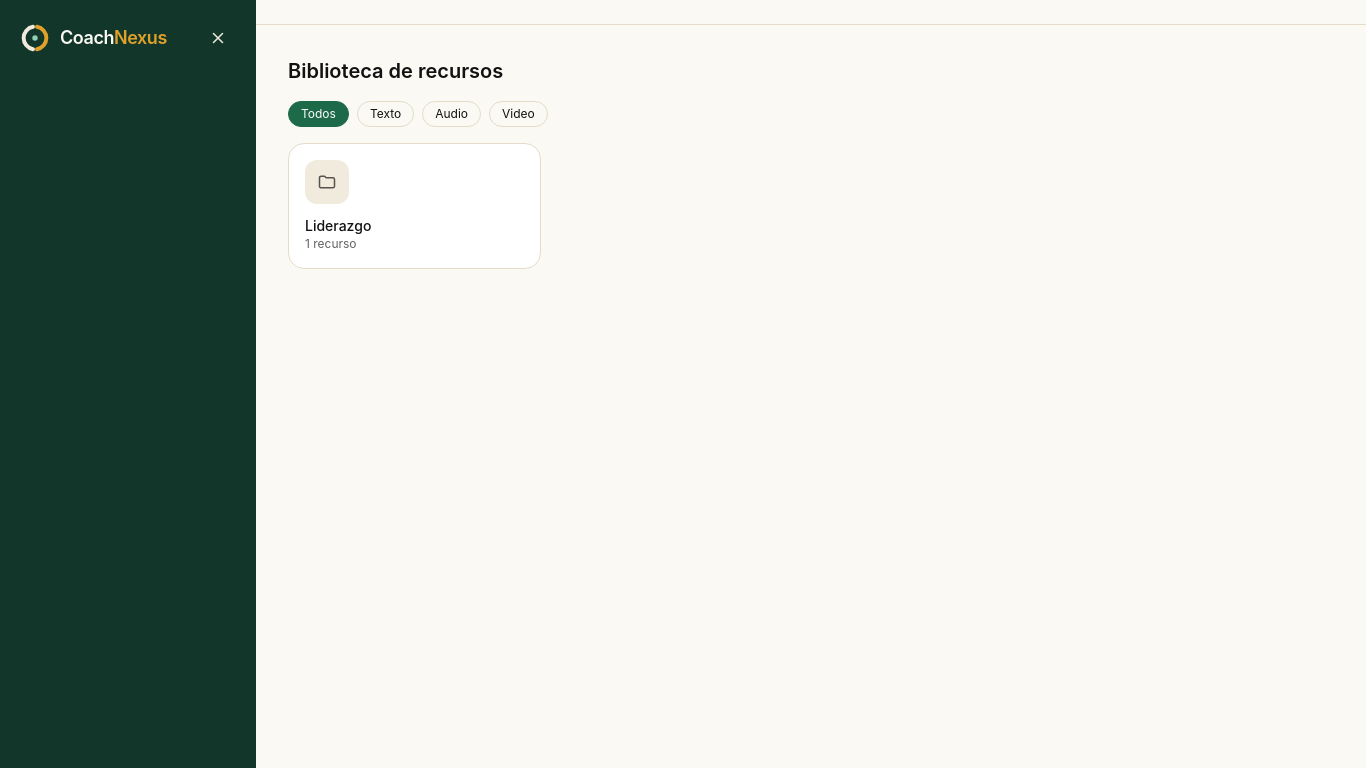
Test: BibliotecaView › saves several aprendizajes of the same capítulo together with its aplicación
Click the button "Liderazgo 1 recurso" at (414, 206), box [288,143,540,269]
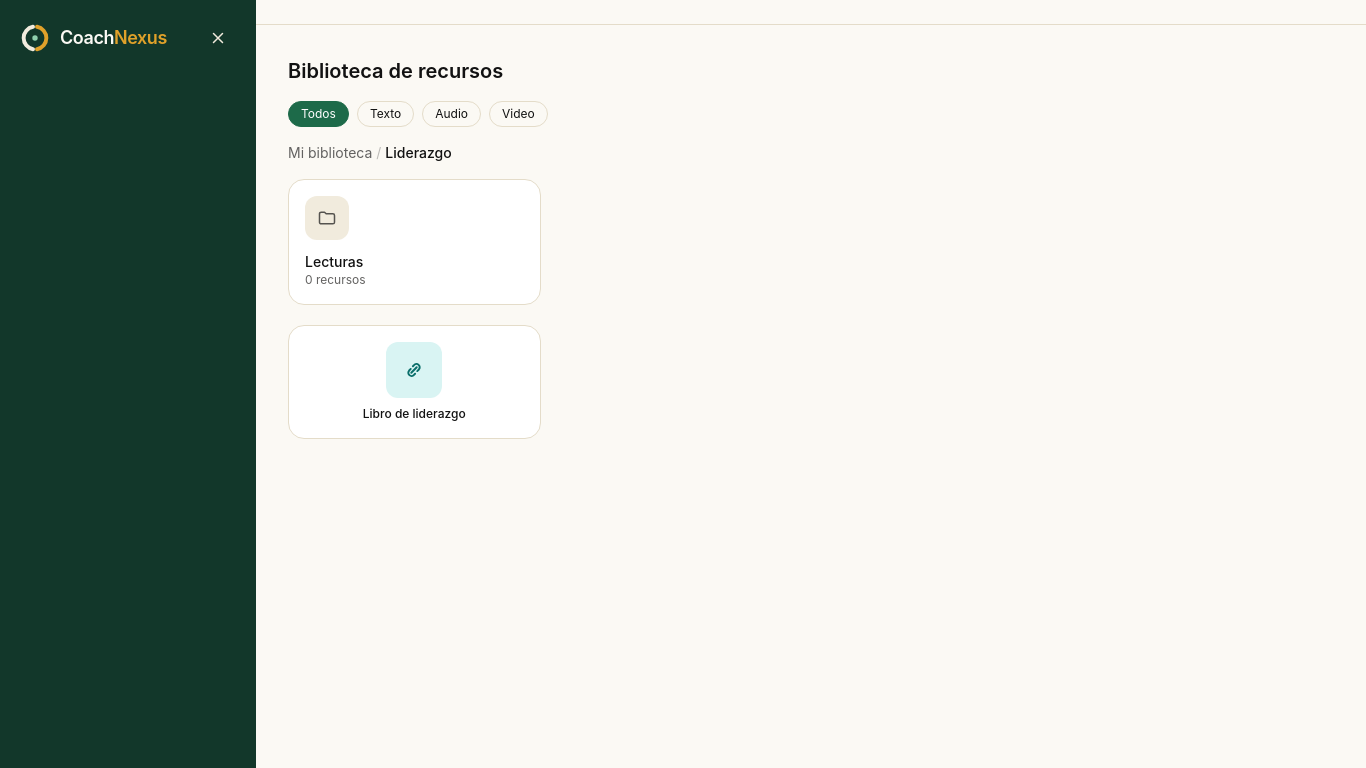
Click the button "Libro de liderazgo" at (414, 382), box [288,325,540,439]
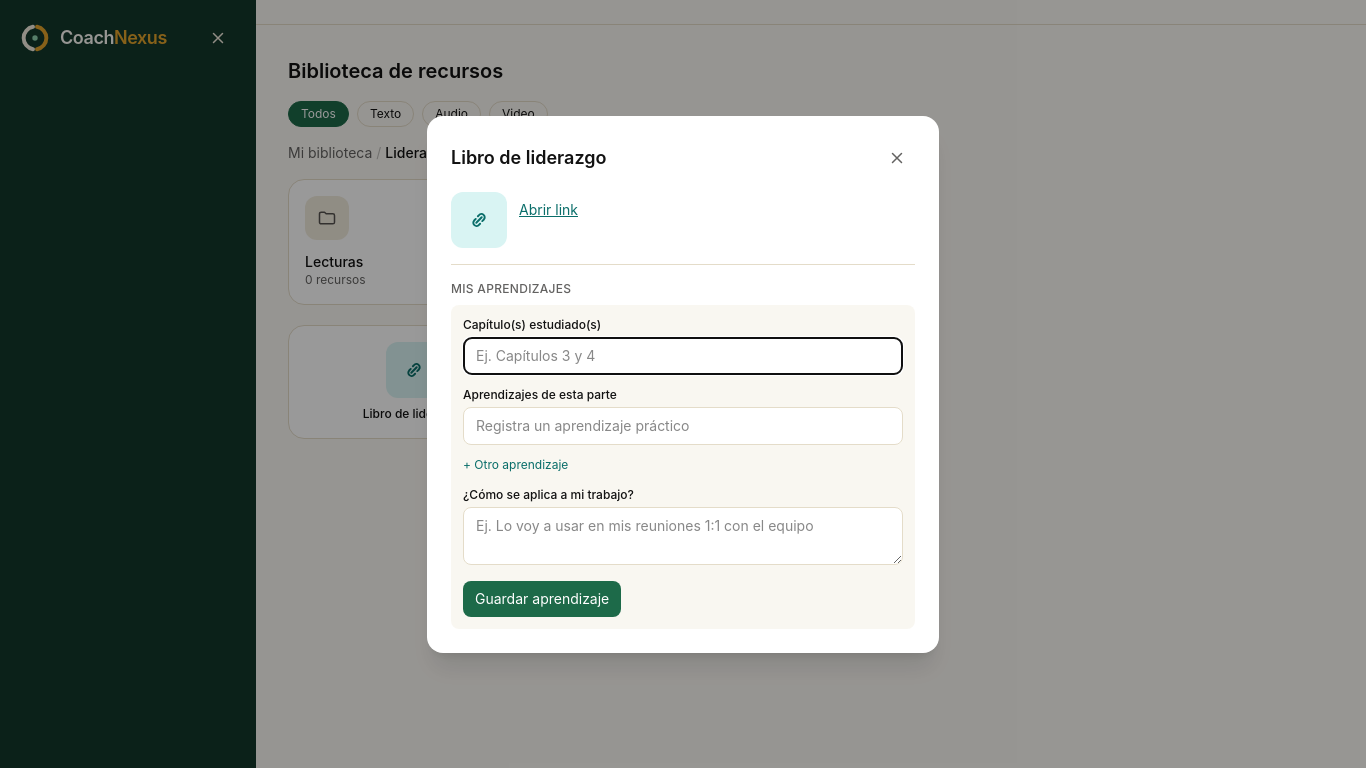
Type "Cap. 3" into the field with placeholder "Ej. Capítulos 3 y 4" at (683, 356), box [463,336,903,374]
Type "Escuchar" into the field named "Aprendizaje 1" at (683, 426), box [463,406,903,444]
Click the button "+ Otro aprendizaje" at (516, 464), box [463,456,568,472]
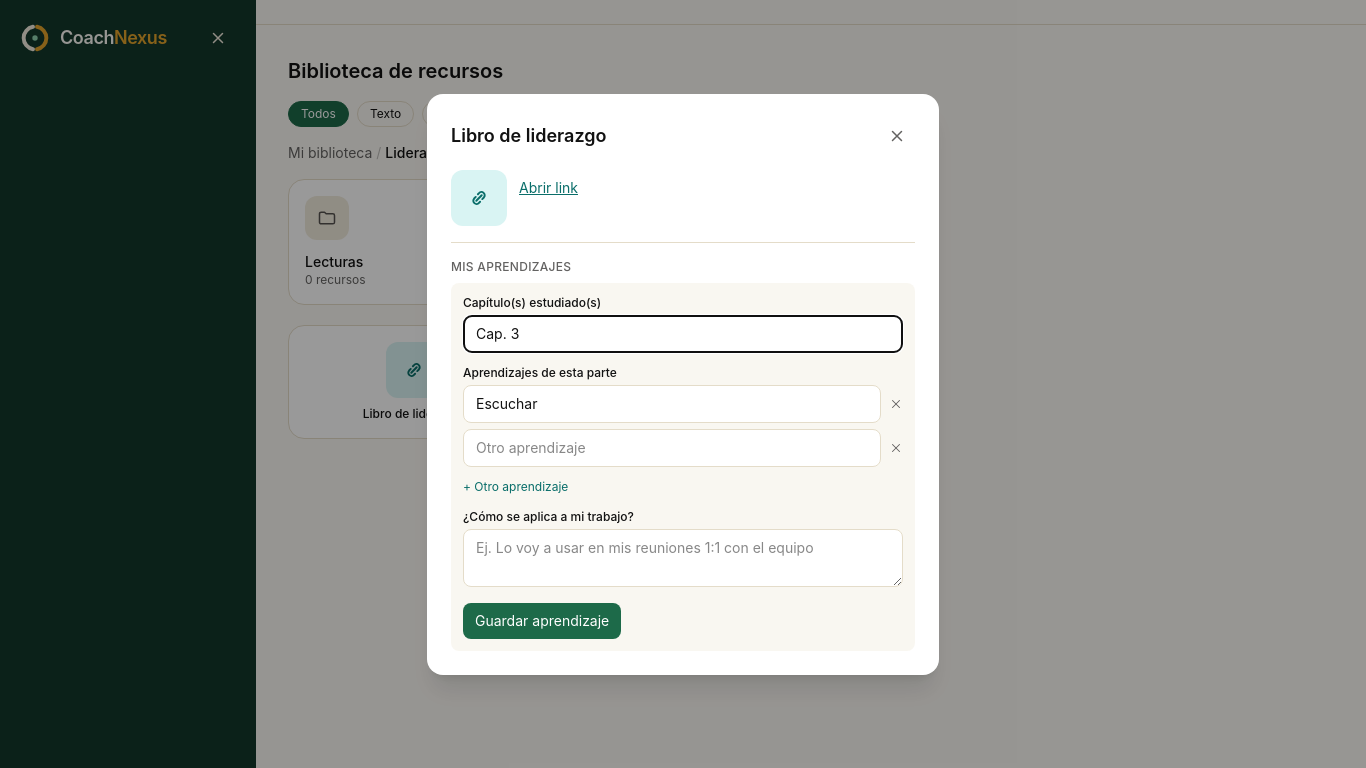
Type "Preguntar" into the field named "Aprendizaje 2" at (672, 448), box [463,428,881,466]
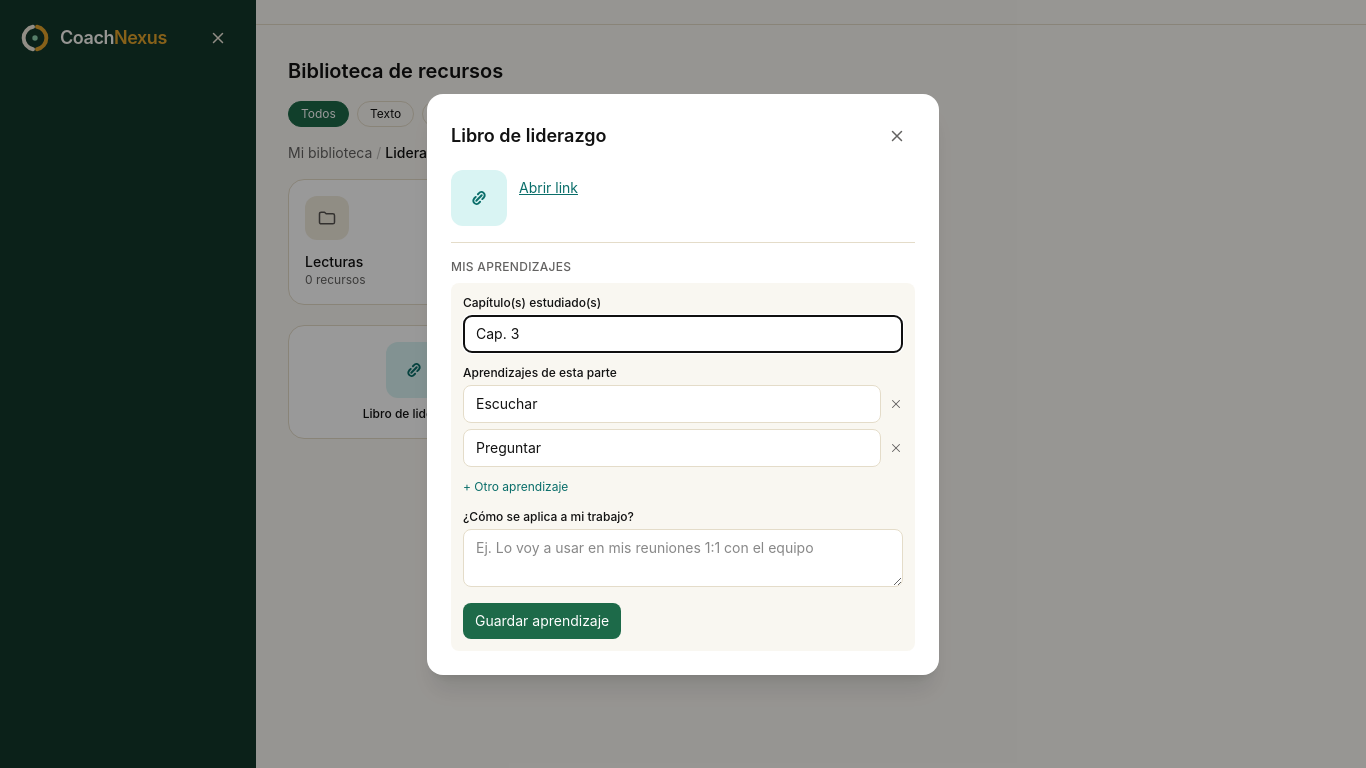
Type "En mis 1:1" into the text box labelled "¿Cómo se aplica a mi trabajo?" at (683, 558), box [463,528,903,586]
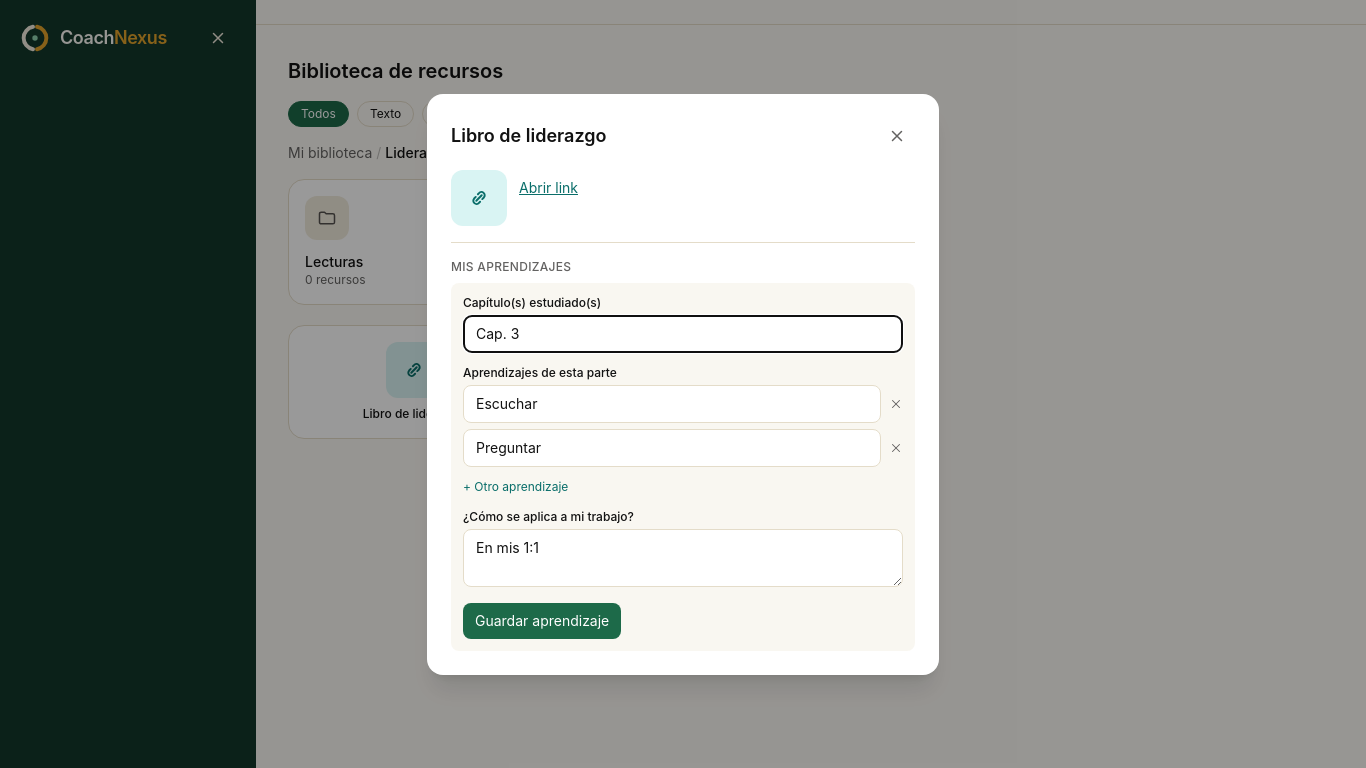
Submit the form, box [451,282,915,650]
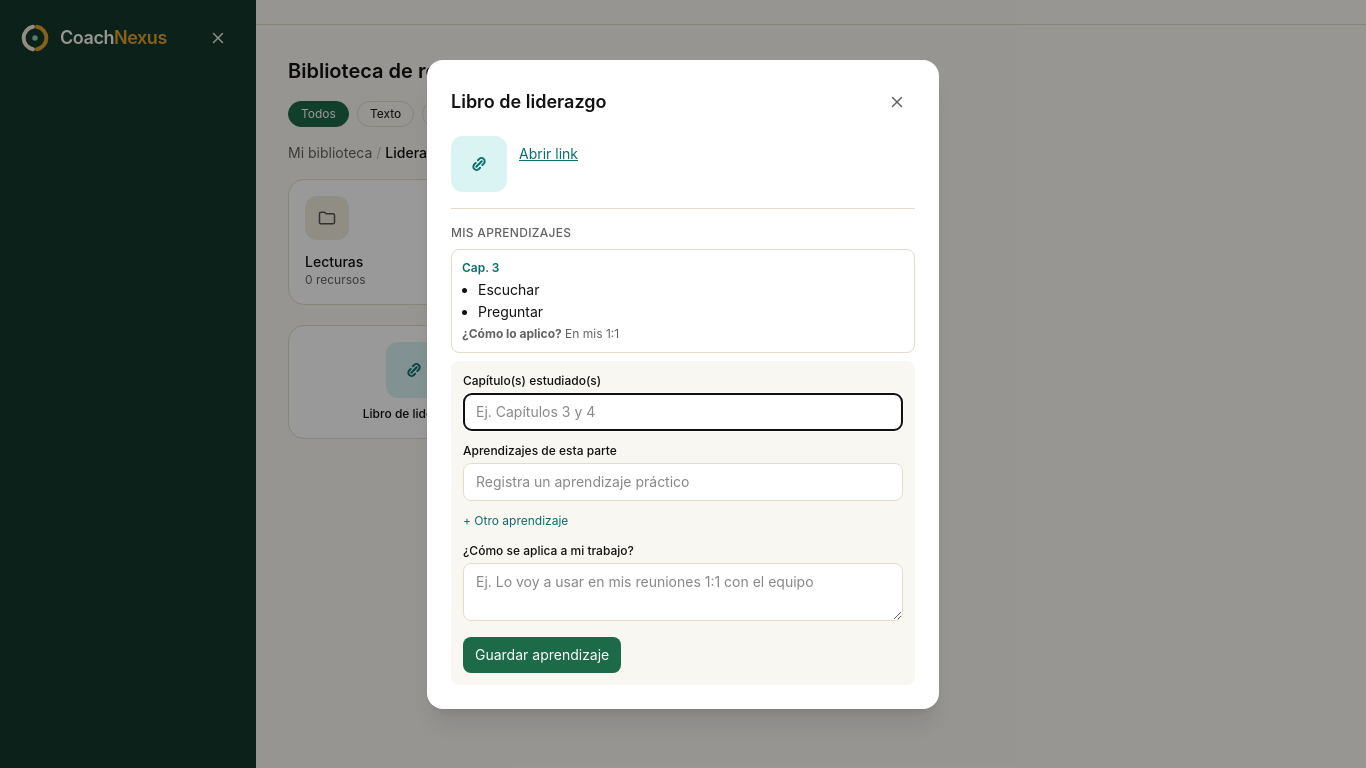
Now the text "Cap. 3" is shown, box [462,260,500,274]
